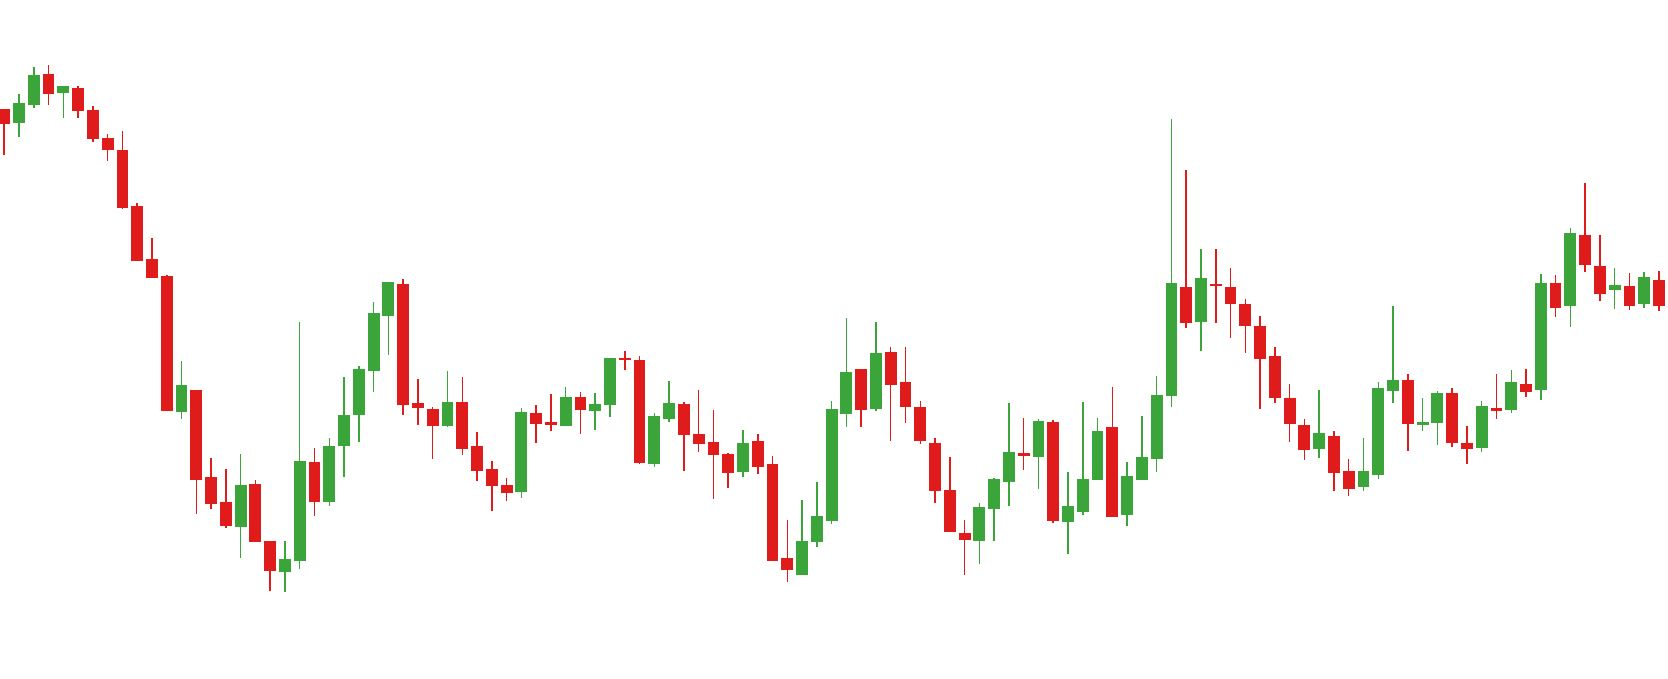buy: (985, 447, 1075, 558)
sell: (600, 320, 867, 473)
